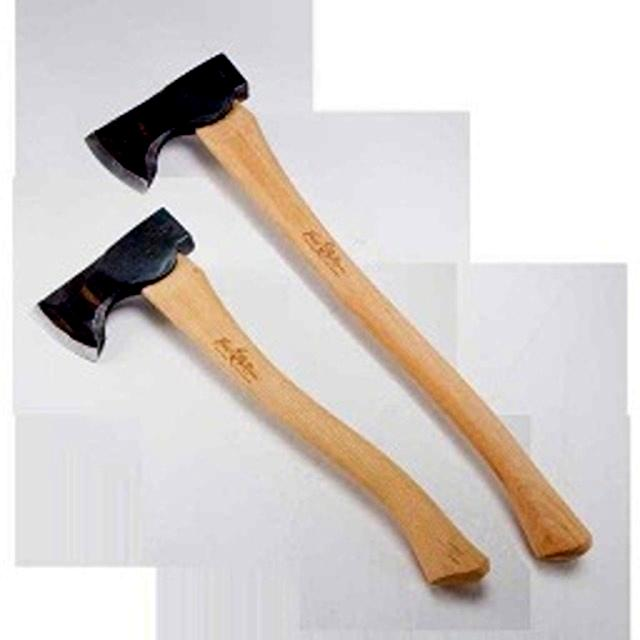ax: (74, 42, 618, 576), (37, 203, 511, 609)
